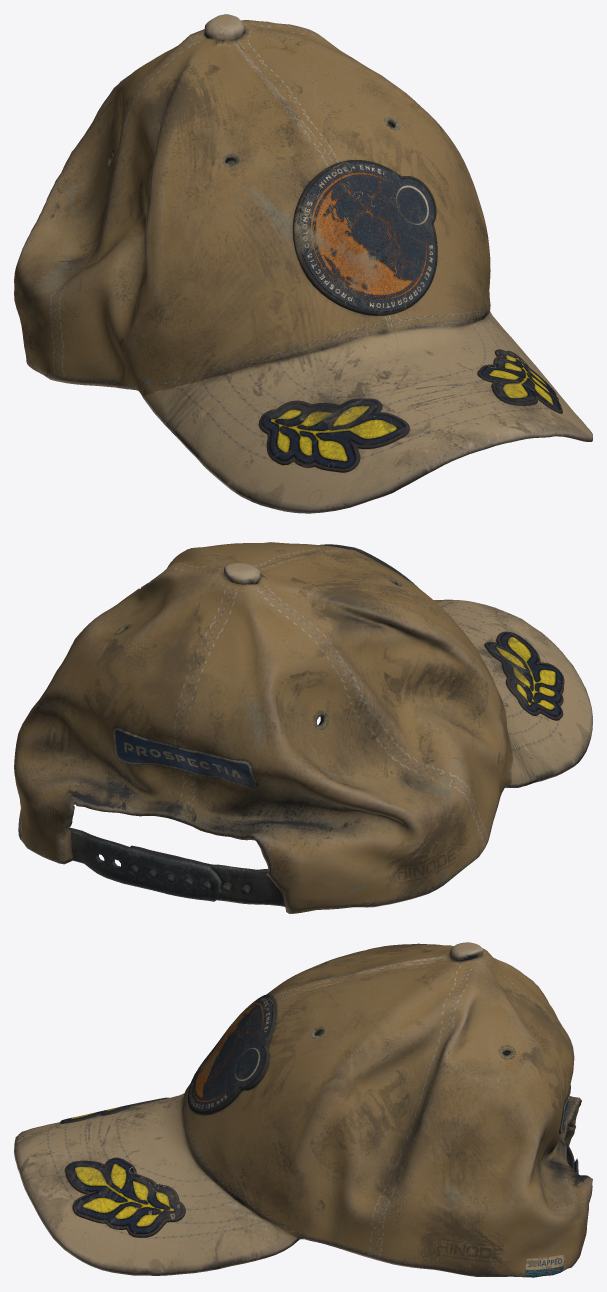
The model's file is worn_cap.glb.
3 renders of one model, top to bottom at view 1: azimuth 30°, elevation 25°; view 2: azimuth 150°, elevation 25°; view 3: azimuth 270°, elevation 25°, orthographic. The views are drawn at different scales.
Parts seen in each view (by area): view 1: Hinode_Cap; view 2: Hinode_Cap; view 3: Hinode_Cap.
Part boxes in pixels (left/top/right/bottom): Hinode_Cap: left=14, top=14, right=592, bottom=513; Hinode_Cap: left=14, top=542, right=592, bottom=913; Hinode_Cap: left=14, top=942, right=592, bottom=1277.
Size of the model in its own units: 0.1279 by 0.0872 by 0.1745.
Materials: 1 (1 with a texture image).
